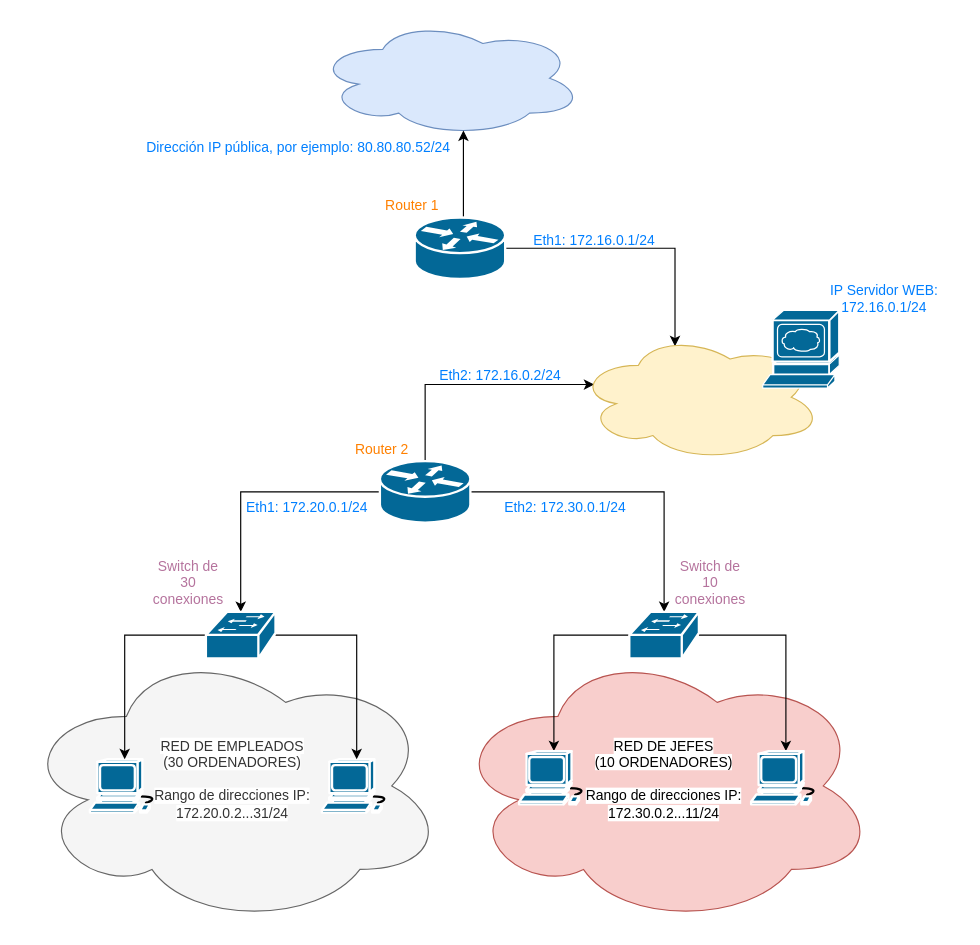
The diagram is 980 pixels wide and 945 high, and some of its shapes have lost their labels. The box of each missing label's shape, as (x1, y1, x2, y2) in pixels:
INTERNET: (315, 19, 583, 136)
ZONA NEUTRA: (576, 332, 822, 461)
